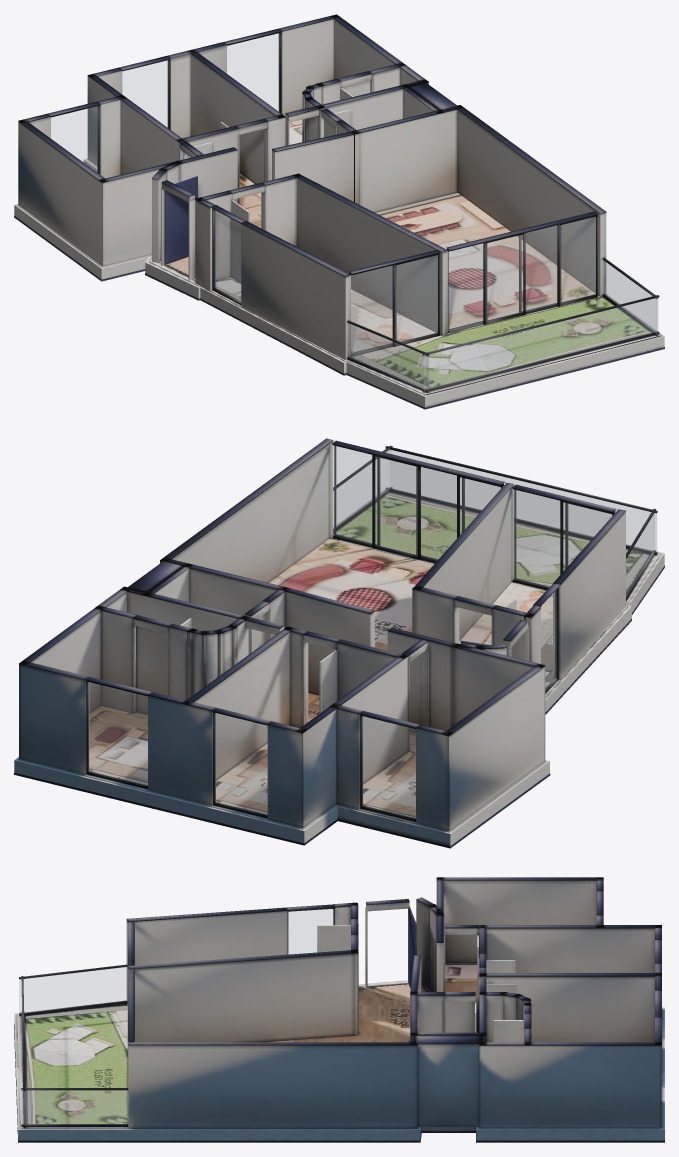
The picture shows the model from 3 angles, top to bottom: view 1: azimuth 30°, elevation 25°; view 2: azimuth 150°, elevation 25°; view 3: azimuth 270°, elevation 25°; orthographic projection. The views are drawn at different scales.
Parts seen in each view (by area): view 1: plan, glass5_m, railg1_m, glass4_m, glass1_m, railg2_m, glass0_m, glass3_m, glass2_m, railg0_m; view 2: plan, glass5_m, railg1_m, glass4_m, glass1_m, glass2_m, glass0_m, railg0_m, glass3_m, railg2_m; view 3: plan, railg0_m, railg2_m, glass3_m.
Boxes of the visible parts, x1,y1,x2,y2 form: plan: (14,14,664,409); glass5_m: (448,217,595,330); railg1_m: (423,298,658,389); glass4_m: (351,255,437,353); glass1_m: (227,33,279,111); railg2_m: (348,323,428,390); glass0_m: (122,60,168,127); glass3_m: (214,210,240,301); glass2_m: (51,106,97,172); railg0_m: (603,261,657,332); plan: (14,438,664,848); glass5_m: (334,446,500,560); railg1_m: (386,450,656,551); glass4_m: (514,490,611,587); glass1_m: (88,682,147,785); glass2_m: (362,716,415,818); glass0_m: (215,713,267,814); railg0_m: (333,450,390,528); glass3_m: (541,590,556,688); railg2_m: (626,513,654,596); plan: (14,877,664,1142); railg0_m: (21,1090,127,1124); railg2_m: (19,967,126,1013); glass3_m: (288,909,332,953).
Bounding box in the file's own units: 9.99 × 2.62 × 16.1.
2 materials, 1 textured.
